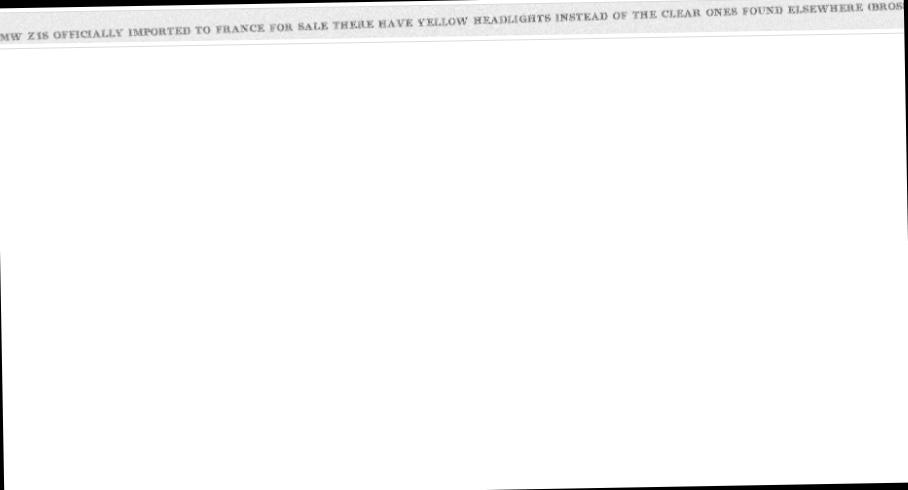text: (0, 0, 904, 44)
